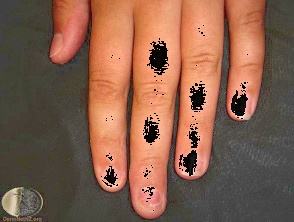Nail_psoriasis: (128, 177, 174, 222), (176, 142, 211, 180), (42, 25, 71, 65), (229, 88, 260, 123), (96, 161, 126, 191)
